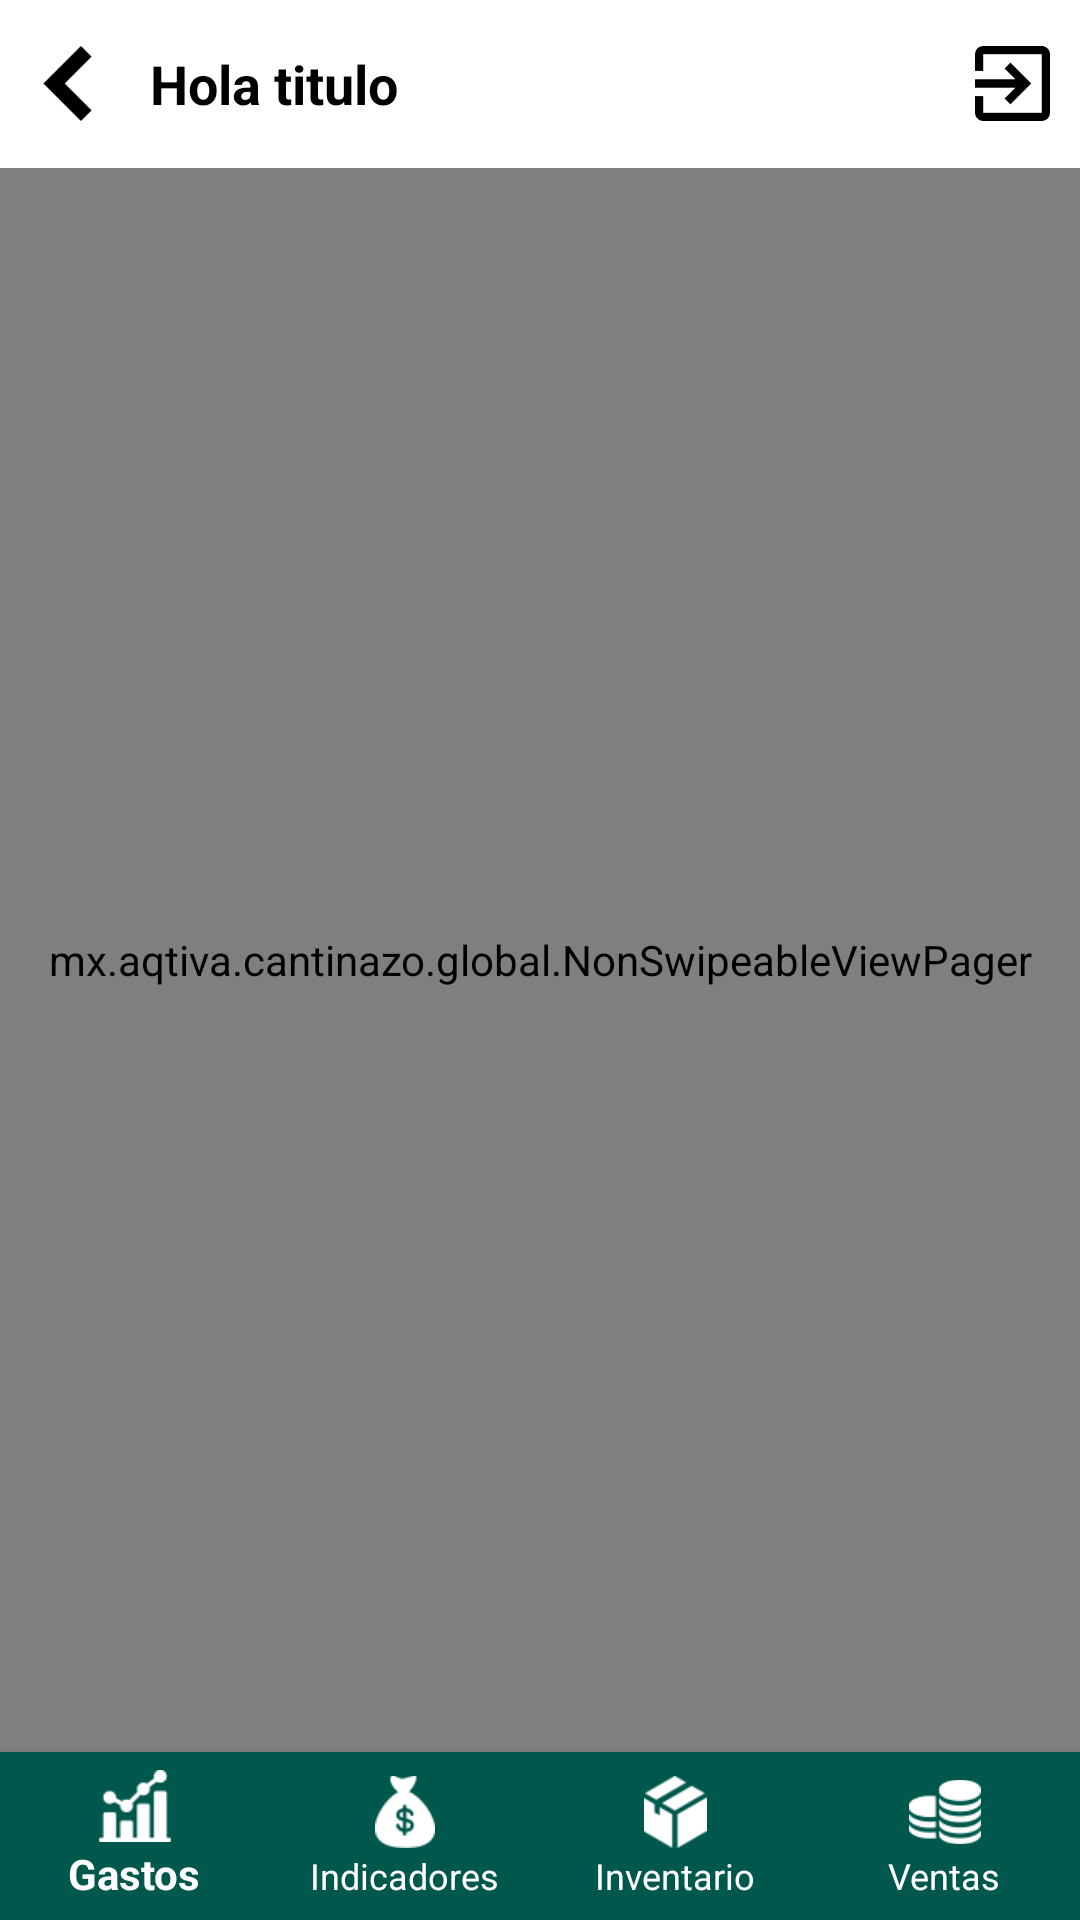

Screen size 1080 × 1920. Icon name, then its box in pixels as [x1, y1, x2, y2]:
back: [43, 46, 92, 121]
exit: [975, 46, 1050, 121]
